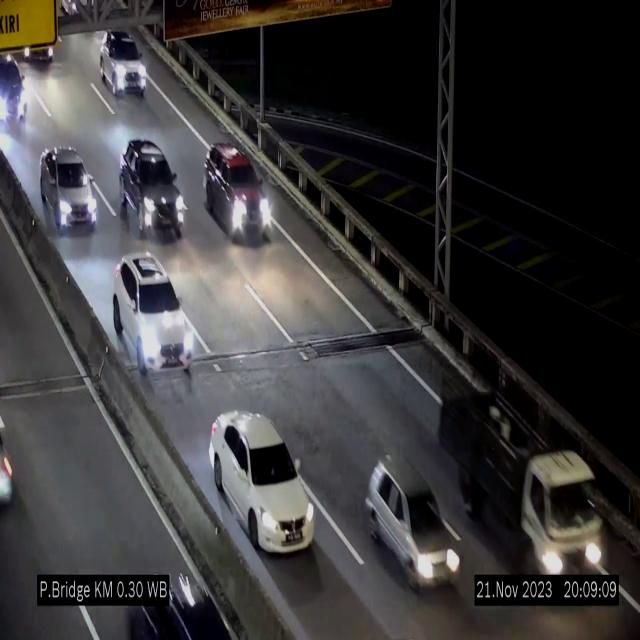Car: (210, 411, 314, 553), (364, 444, 462, 588), (113, 254, 195, 370), (118, 140, 186, 240), (206, 143, 272, 245), (41, 147, 98, 233), (100, 30, 147, 97)
Truck: (439, 374, 605, 573)
